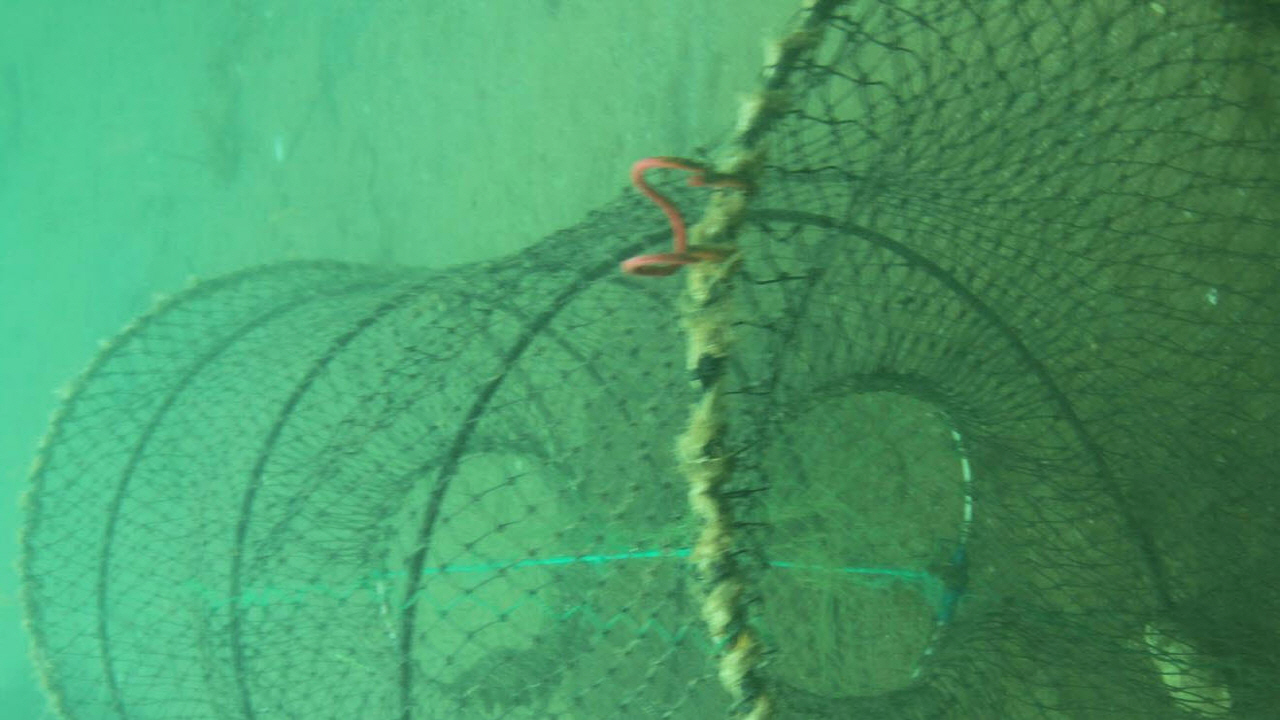spring fish trap: (15, 0, 1280, 720)
